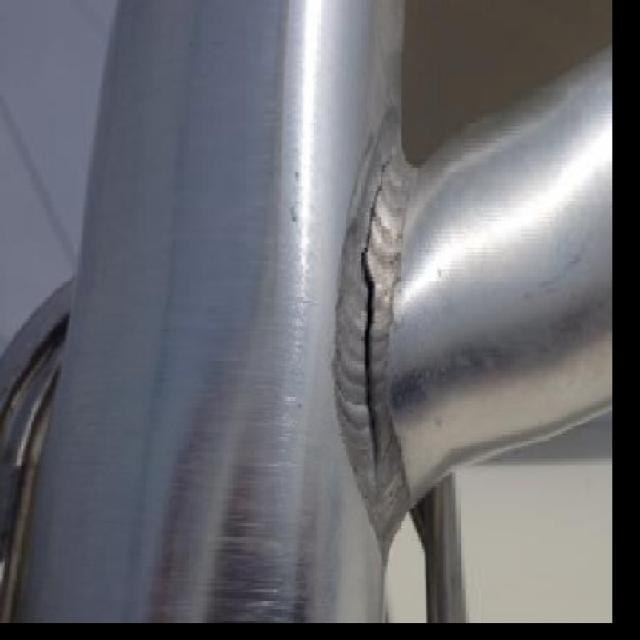crack: (361, 255, 381, 473), (366, 149, 391, 249)
